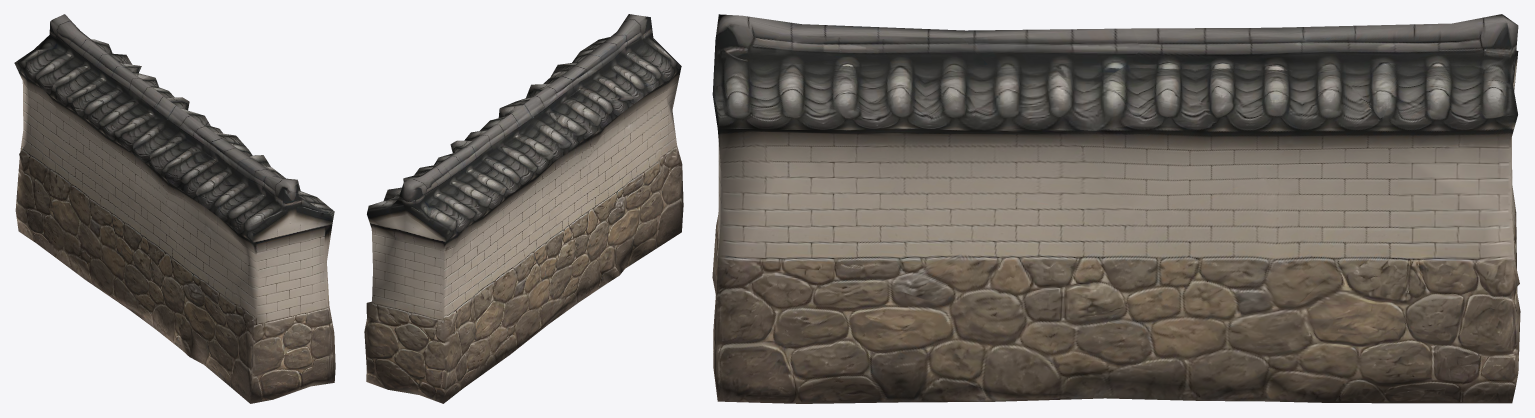
File: Wall.fbx
The picture shows the model from 3 angles, left to right: view 1: azimuth 30°, elevation 25°; view 2: azimuth 150°, elevation 25°; view 3: azimuth 270°, elevation 25°; orthographic projection. The views are drawn at different scales.
Parts seen in each view (by area): view 1: tripo_node_5de402d1; view 2: tripo_node_5de402d1; view 3: tripo_node_5de402d1.
Part boxes in pixels (bbox=[...]): tripo_node_5de402d1: bbox=[14, 14, 335, 403]; tripo_node_5de402d1: bbox=[364, 14, 683, 403]; tripo_node_5de402d1: bbox=[712, 14, 1520, 403].
Bounding box in the file's own units: 0.2142 × 0.4859 × 0.9973.
Materials: 1 (1 with a texture image).
